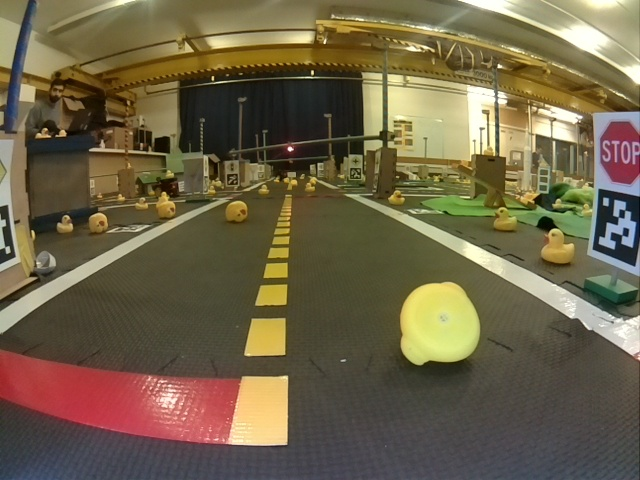Duckie: (399, 283, 480, 367), (541, 230, 575, 263), (494, 207, 515, 232), (226, 201, 248, 221), (88, 215, 108, 233), (55, 215, 73, 233), (387, 191, 404, 204), (159, 202, 176, 215), (258, 186, 268, 194), (305, 183, 312, 193)
QR code: (592, 197, 635, 267), (109, 223, 149, 232), (351, 171, 361, 179)
Stop sign: (601, 119, 638, 185)
Traffic light: (286, 144, 294, 152)
